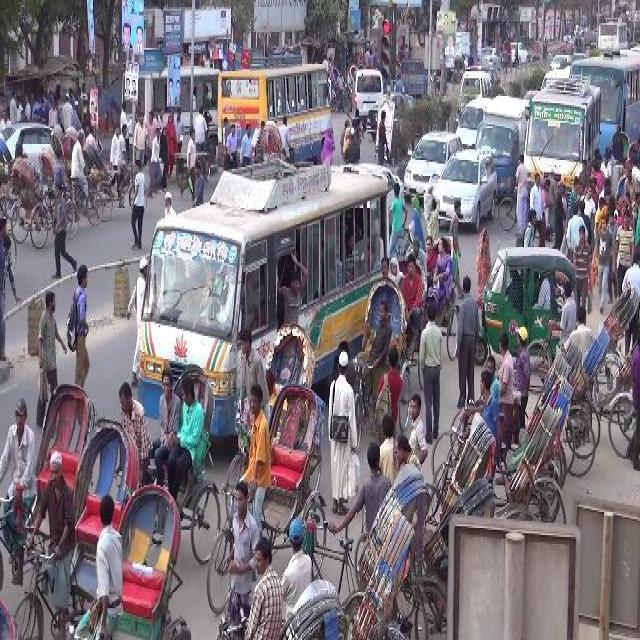13: (204, 379, 332, 613), (10, 418, 140, 634), (68, 477, 194, 639), (0, 376, 98, 580), (344, 274, 414, 455), (501, 36, 512, 74)
17: (472, 245, 582, 370)
5: (430, 141, 498, 232), (398, 127, 462, 200), (475, 44, 503, 73)
9: (346, 64, 386, 132)
Truck: (133, 148, 389, 434), (212, 61, 334, 177), (520, 74, 602, 189), (597, 15, 631, 53)
